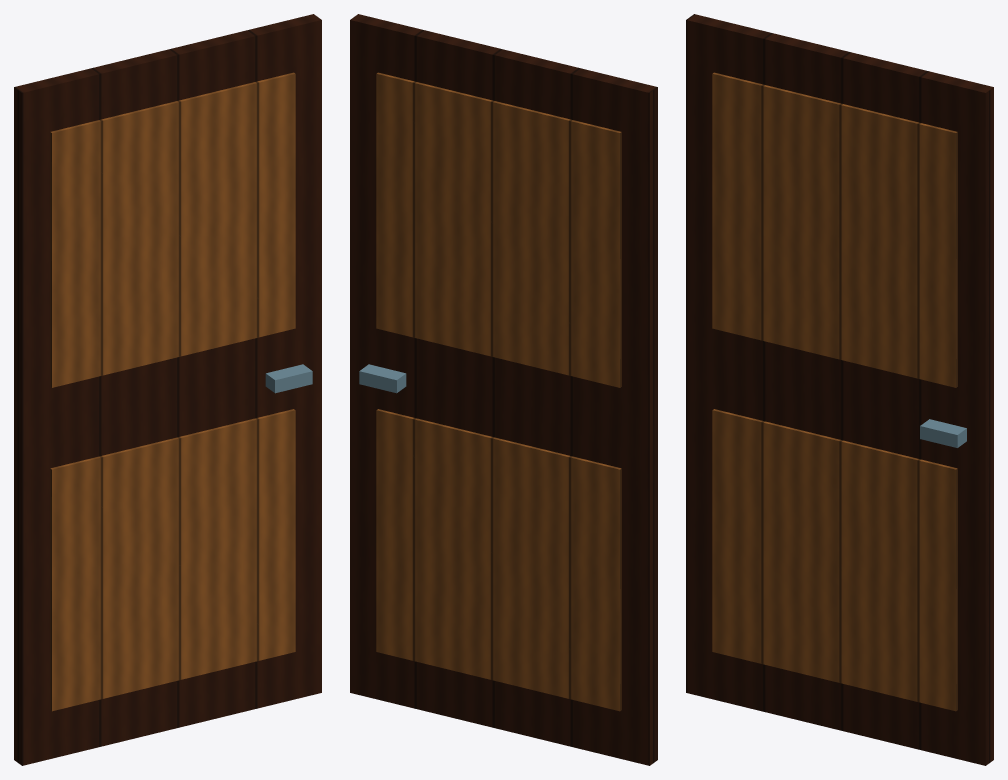
The model's file is door_panelled.glb.
3 renders of one model, left to right at view 1: azimuth 30°, elevation 25°; view 2: azimuth 150°, elevation 25°; view 3: azimuth 330°, elevation 25°, orthographic.
Parts seen in each view (by area): view 1: door_panelled_Leaf, RaisedPanel.003, RaisedPanel.002, Handle.001; view 2: door_panelled_Leaf, RaisedPanel.001, RaisedPanel, Handle; view 3: door_panelled_Leaf, RaisedPanel.003, RaisedPanel.002, Handle.001.
Boxes of the visible parts, x1,y1,x2,y2 form: door_panelled_Leaf: (14,14,321,765); RaisedPanel.003: (50,72,295,387); RaisedPanel.002: (50,409,295,711); Handle.001: (265,364,312,393); door_panelled_Leaf: (350,14,657,765); RaisedPanel.001: (376,72,621,387); RaisedPanel: (376,409,621,711); Handle: (359,364,406,393); door_panelled_Leaf: (686,14,993,765); RaisedPanel.003: (712,72,957,387); RaisedPanel.002: (712,409,957,711); Handle.001: (920,419,966,447).
Size of the model in its own units: 0.96 by 2.06 by 0.15.
3 materials, 2 textured.
